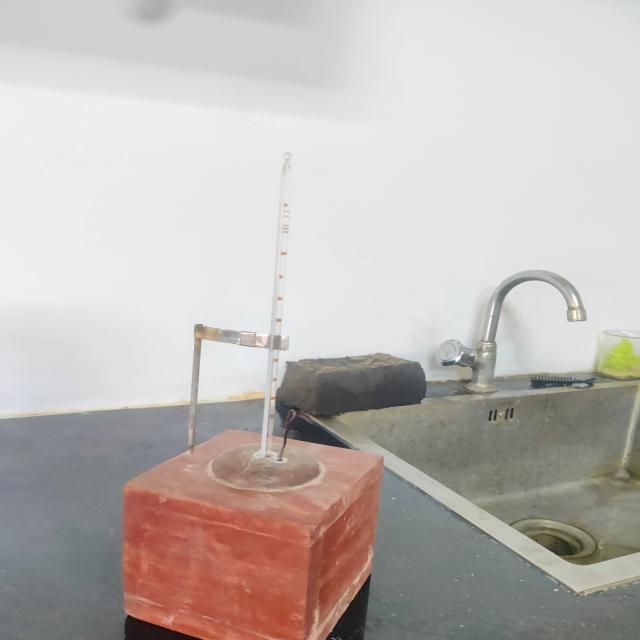Calorimeter: (88, 122, 405, 640)
